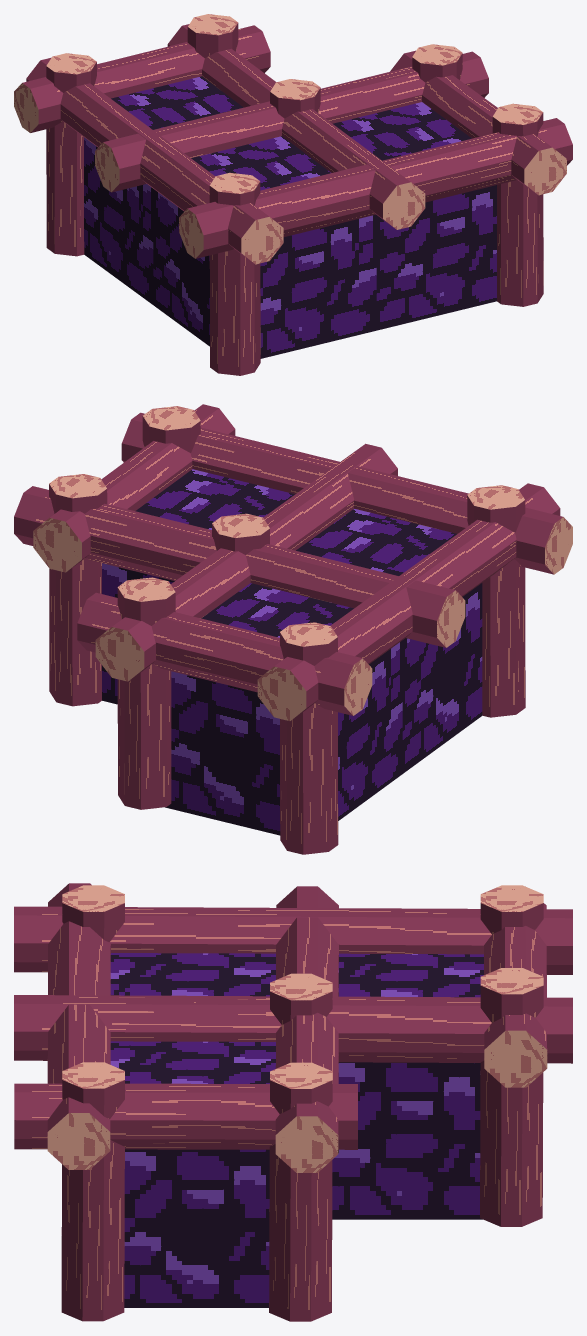
File: Casamedia.gltf
3 renders of one model, top to bottom at view 1: azimuth 30°, elevation 25°; view 2: azimuth 150°, elevation 25°; view 3: azimuth 270°, elevation 25°, orthographic. The views are drawn at different scales.
Bounding box in the file's own units: 5.29 × 2.52 × 5.34.
Materials: 1 (1 with a texture image).
